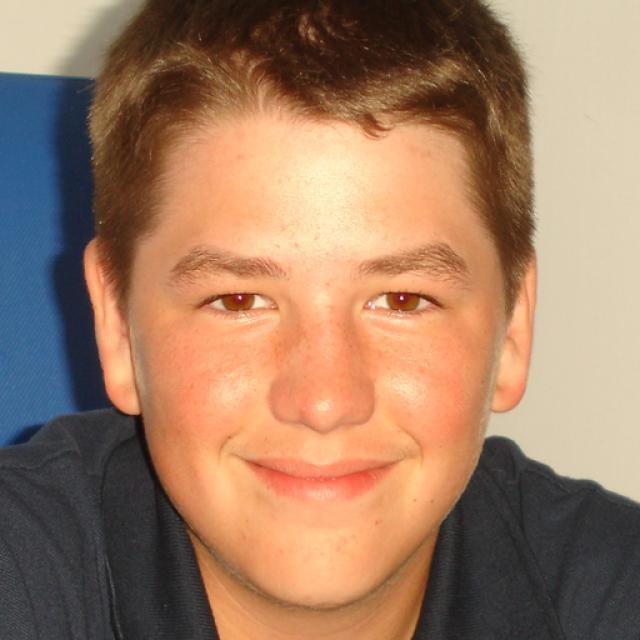happy: (129, 78, 499, 608)
